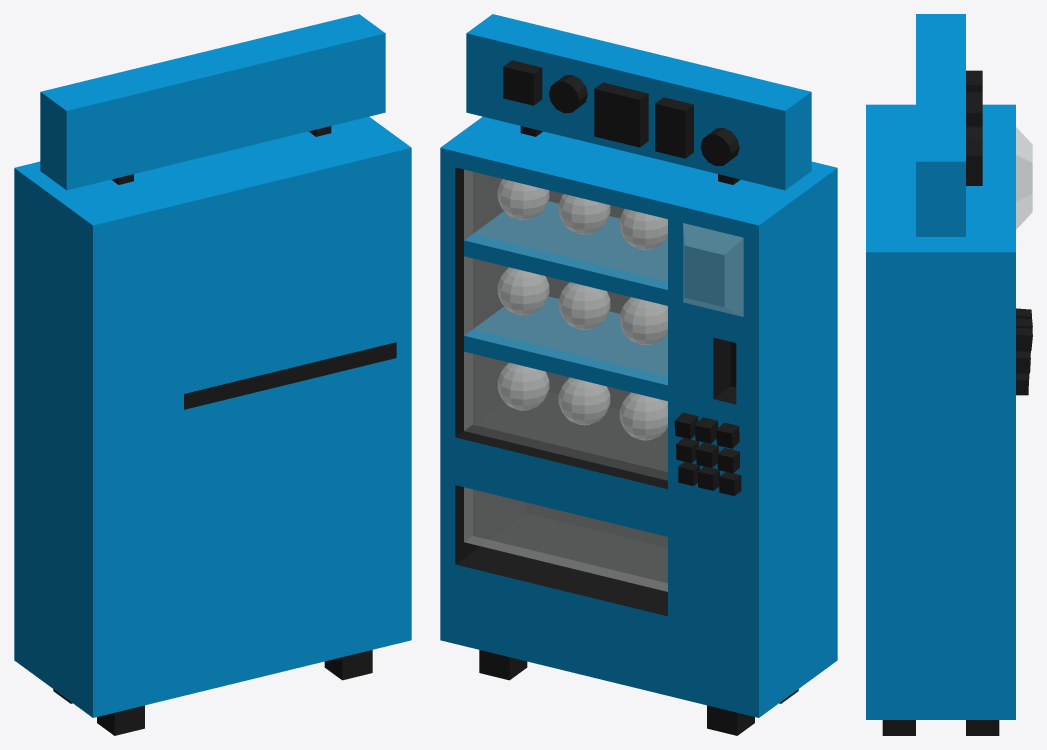
File: vending_machine.glb
3 renders of one model, left to right at view 1: azimuth 30°, elevation 25°; view 2: azimuth 150°, elevation 25°; view 3: azimuth 270°, elevation 25°, orthographic. The views are drawn at different scales.
Visible parts, largest first — view 1: group1858506000, group1887676826, group577397298, group1222169380, group1394142260, group351965626, group1871551305, group1982615210; view 2: group1887676826, group1016280600, group1653716828, group577397298, group19616759, group522768280, group1222169380, group892156184, group1394142260, group351965626, group1858506000, group134552523 (+16 smaller); view 3: group19616759, group577397298, group1858506000, group1222169380, group1887676826, group134552523, group962782918, group850966255, group1471477505, group1871551305, group1266518904, group185908305 (+2 smaller).
Boxes of the visible parts, x1,y1,x2,y2 form: group1858506000: (84,141,411,717); group1887676826: (14,161,174,711); group577397298: (40,14,385,190); group1222169380: (142,120,387,196); group1394142260: (184,247,396,314); group351965626: (184,342,396,409); group1871551305: (324,650,372,680); group1982615210: (97,705,144,735); group1887676826: (668,170,828,717); group1016280600: (464,169,667,480); group1653716828: (455,513,667,695); group577397298: (466,14,811,190); group19616759: (440,116,524,643); group522768280: (455,392,667,536); group1222169380: (455,120,709,218); group892156184: (464,487,667,591); group1394142260: (464,201,667,305); group351965626: (464,296,667,401); group1858506000: (525,161,837,666); group134552523: (683,223,743,316); group19616759: (882,245,1015,719); group577397298: (916,14,965,236); group1858506000: (866,104,882,719); group1222169380: (882,146,1015,245); group1887676826: (882,104,1015,146); group134552523: (1016,127,1032,229); group962782918: (966,141,982,185); group850966255: (966,92,982,125); group1471477505: (966,720,999,735); group1871551305: (882,720,915,735); group1266518904: (1016,327,1032,350); group185908305: (966,71,982,92).
Size of the model in its own units: 0.9962 by 1.85 by 0.4756.
